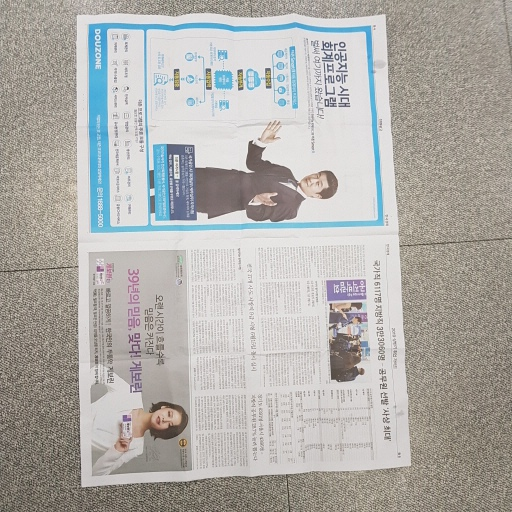Paper_2: (71, 8, 418, 491)
